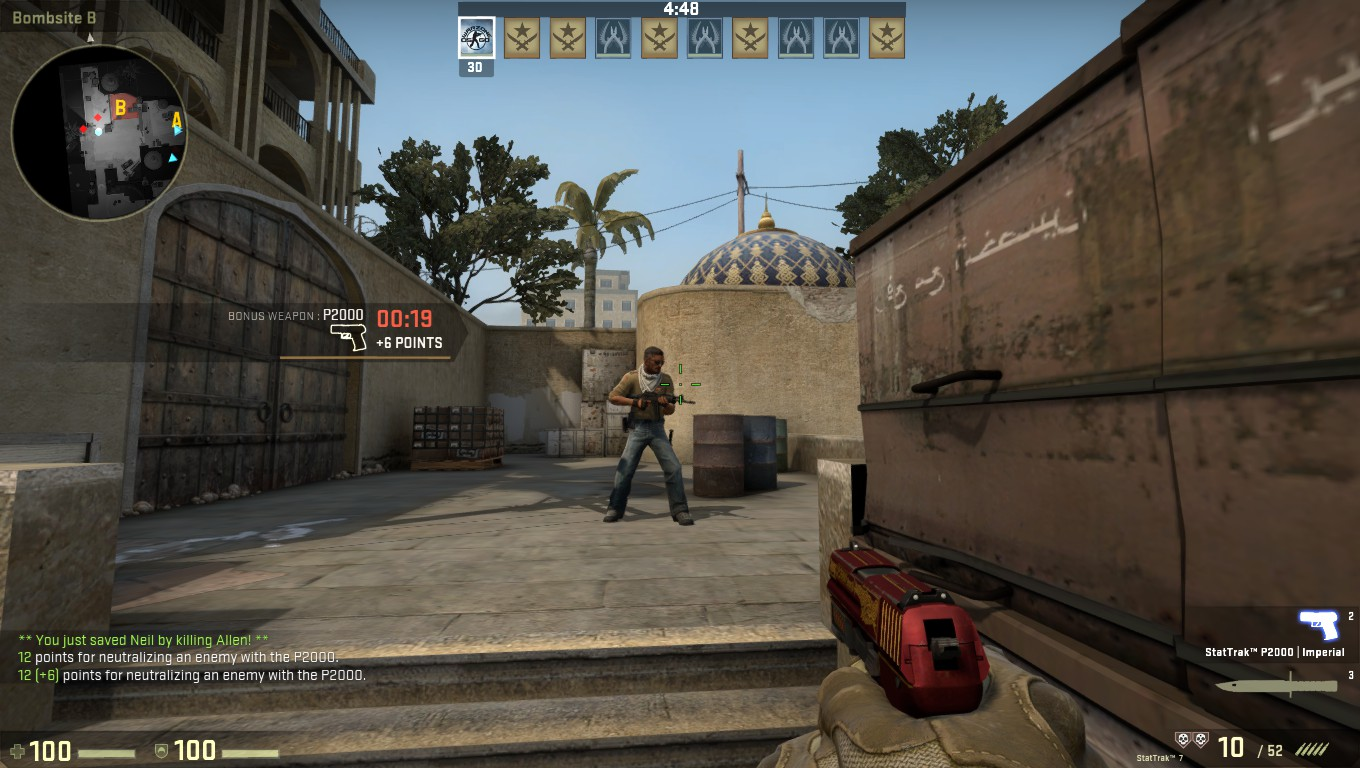t: (611, 347, 683, 528)
th: (634, 345, 669, 389)
